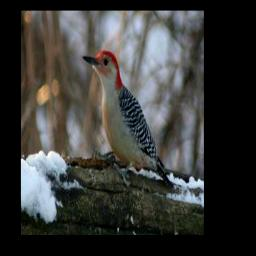Woodpecker: (81, 50, 173, 187)
